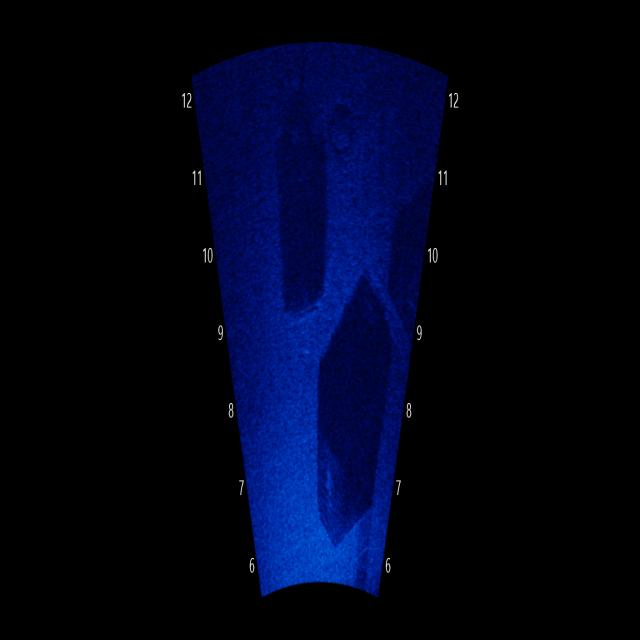square: (304, 254, 394, 544), (270, 67, 338, 340)
